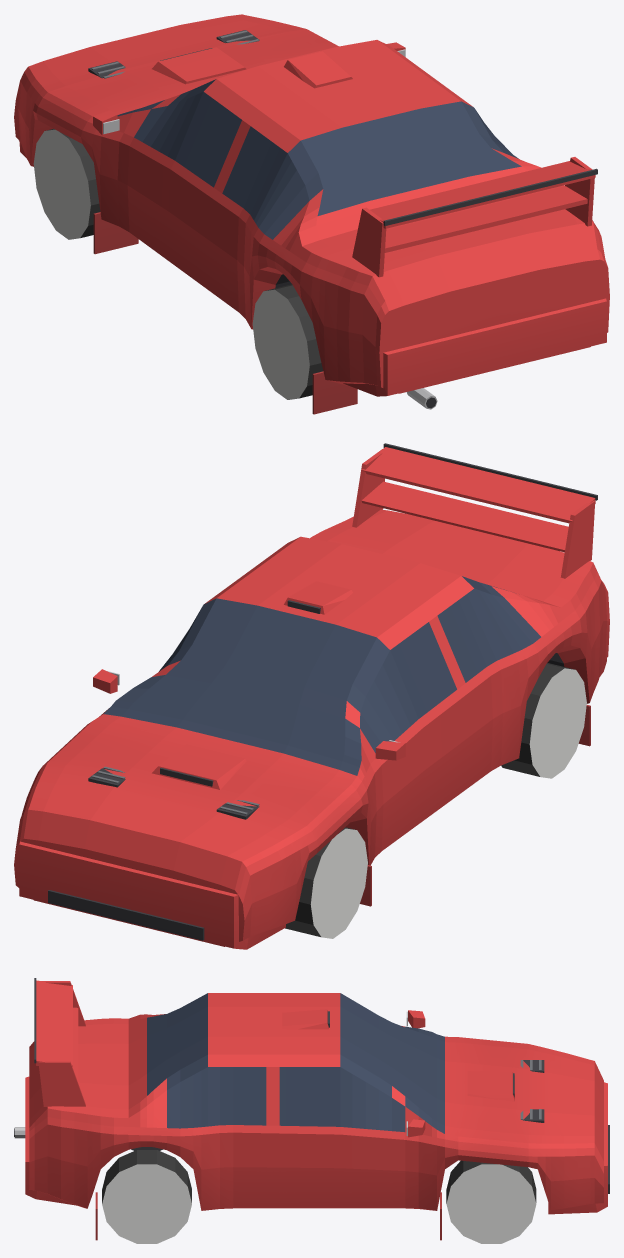
Rendered from lancer.glb.
3 views of the same model, one above another, from view 1: azimuth 30°, elevation 25°; view 2: azimuth 150°, elevation 25°; view 3: azimuth 270°, elevation 25° (orthographic). The views are drawn at different scales.
Visible parts, largest first — view 1: Body, Spoiler, Bumper_R, Wheel_RL, Wheel_FL, MudFlaps; view 2: Body, Spoiler, Bumper_F, Wheel_RL, Wheel_FL; view 3: Body, Wheel_RR, Wheel_FR, Spoiler, Bumper_F, Bumper_R.
Boxes of the visible parts, x1,y1,x2,y2 form: Body: (14, 14, 609, 393); Spoiler: (352, 157, 597, 277); Bumper_R: (343, 298, 606, 396); Wheel_RL: (252, 284, 323, 399); Wheel_FL: (33, 128, 100, 239); MudFlaps: (93, 212, 357, 414); Body: (14, 509, 609, 946); Spoiler: (352, 443, 597, 578); Bumper_F: (19, 841, 285, 949); Wheel_RL: (501, 663, 586, 778); Wheel_FL: (285, 827, 367, 938); Body: (29, 993, 603, 1210); Wheel_RR: (102, 1150, 191, 1243); Wheel_FR: (446, 1160, 536, 1243); Spoiler: (34, 978, 85, 1106); Bumper_F: (548, 1082, 609, 1214); Bumper_R: (25, 1076, 77, 1205).
Size of the model in its own units: 2.08 by 1.46 by 4.5.
